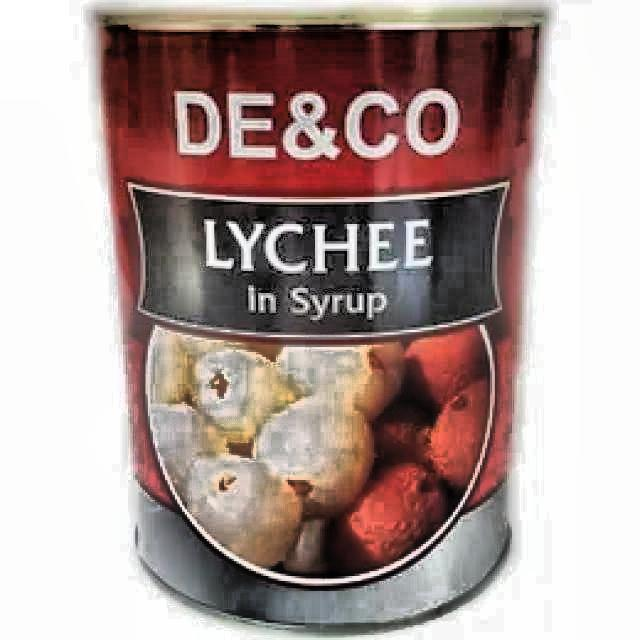metal: (93, 3, 549, 629)
